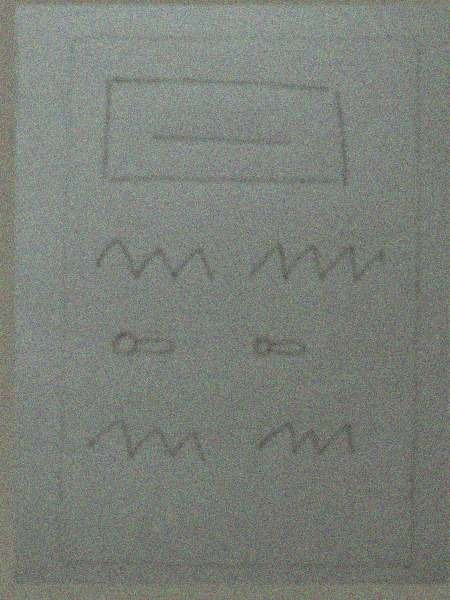button: (99, 66, 360, 193)
switch: (88, 313, 189, 372), (239, 326, 322, 377)
text: (242, 227, 389, 294), (84, 409, 211, 476), (86, 226, 220, 289), (241, 402, 367, 465)
